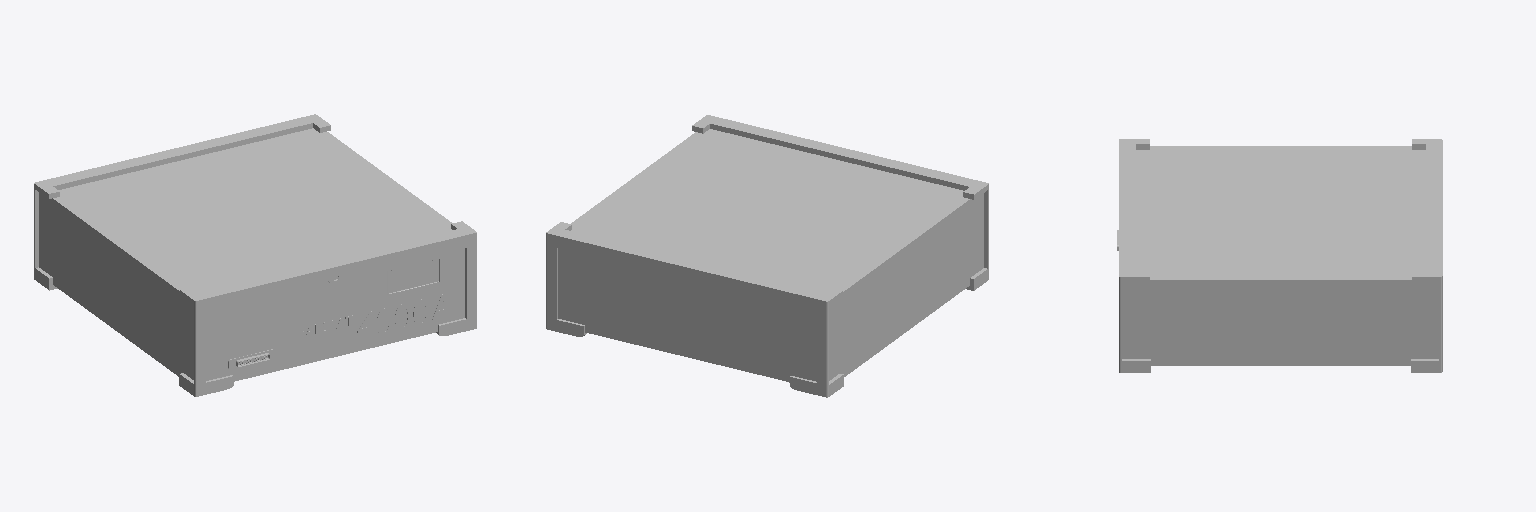
The model's file is parstat.obj.
3 renders of one model, left to right at view 1: azimuth 30°, elevation 25°; view 2: azimuth 150°, elevation 25°; view 3: azimuth 270°, elevation 25°, orthographic.
Visible parts, largest first — view 1: Cube.012_Cube.015, Cube.014_Cube.016, Cube.015_Cube.017; view 2: Cube.012_Cube.015, Cube.015_Cube.017, Cube.014_Cube.016; view 3: Cube.012_Cube.015, Cube.015_Cube.017, Cube.014_Cube.016.
Part boxes in pixels (x1,y1,x2,y2): Cube.012_Cube.015: (39, 128, 464, 381); Cube.014_Cube.016: (179, 221, 476, 396); Cube.015_Cube.017: (34, 114, 330, 290); Cube.012_Cube.015: (558, 129, 983, 381); Cube.015_Cube.017: (546, 222, 843, 397); Cube.014_Cube.016: (692, 115, 988, 290); Cube.012_Cube.015: (1122, 146, 1438, 365); Cube.015_Cube.017: (1411, 139, 1442, 372); Cube.014_Cube.016: (1119, 139, 1150, 372).
Size of the model in its own units: 4.38 by 1.42 by 4.37.